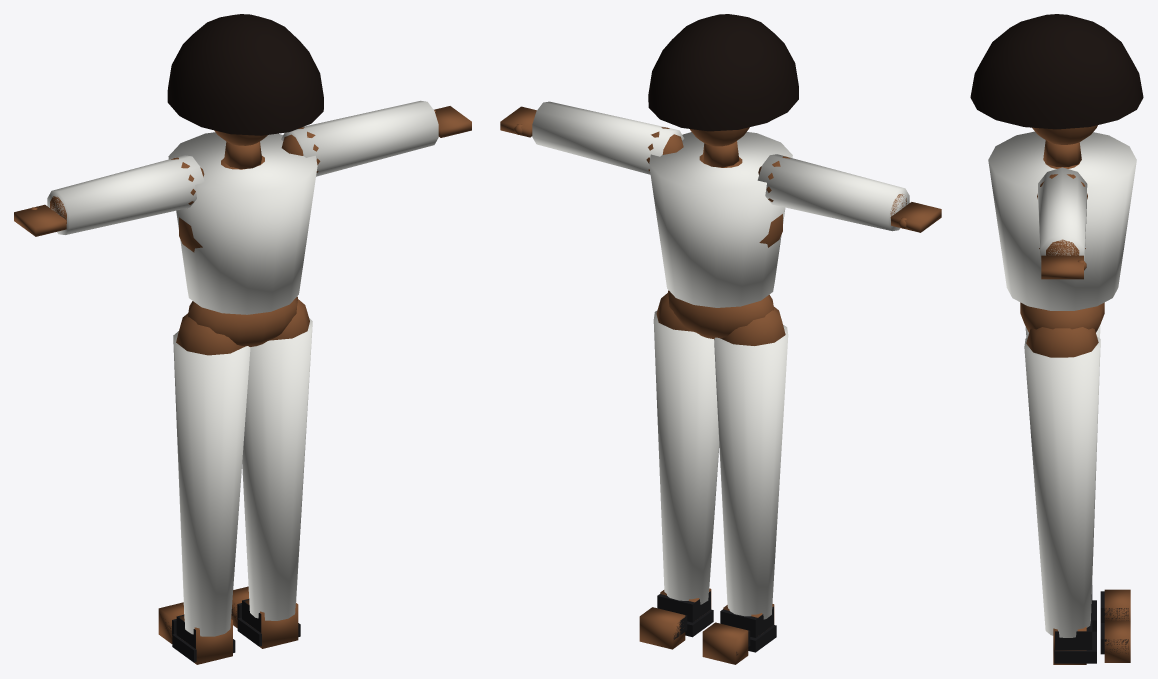
Rendered from Emeka.obj.
3 views of the same model, side by side, from view 1: azimuth 30°, elevation 25°; view 2: azimuth 150°, elevation 25°; view 3: azimuth 270°, elevation 25° (orthographic). The views are drawn at different scales.
Visible parts, largest first — view 1: Emeka, Emeka_hair, Emeka_body, Emeka_shoes; view 2: Emeka, Emeka_hair, Emeka_body, Emeka_shoes; view 3: Emeka, Emeka_hair, Emeka_body, Emeka_shoes.
Boxes of the visible parts, bbox=[...] form: Emeka: bbox=[47, 100, 438, 636]; Emeka_hair: bbox=[167, 14, 323, 135]; Emeka_body: bbox=[14, 106, 471, 664]; Emeka_shoes: bbox=[165, 599, 300, 662]; Emeka: bbox=[532, 101, 909, 619]; Emeka_hair: bbox=[648, 14, 798, 131]; Emeka_body: bbox=[500, 106, 941, 664]; Emeka_shoes: bbox=[657, 591, 776, 655]; Emeka: bbox=[988, 131, 1136, 637]; Emeka_hair: bbox=[970, 14, 1143, 129]; Emeka_body: bbox=[1020, 125, 1130, 664]; Emeka_shoes: bbox=[1054, 585, 1128, 663].
Size of the model in its own units: 1.34 by 1.84 by 0.4659.
